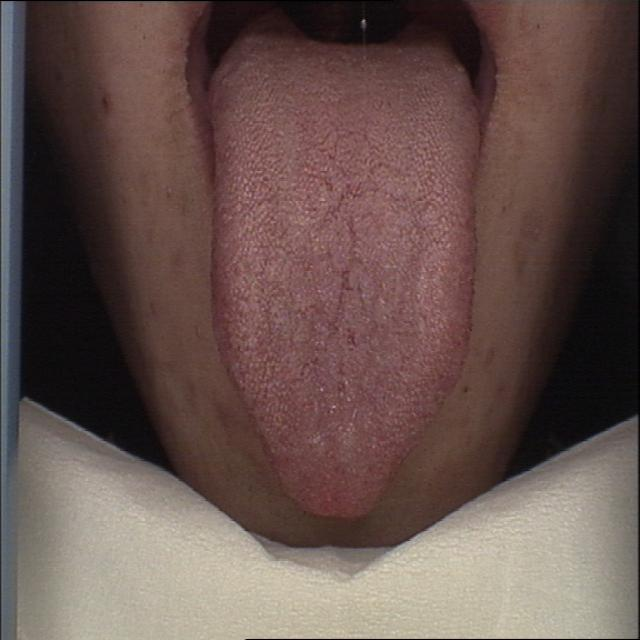tongue: (205, 21, 483, 524)
